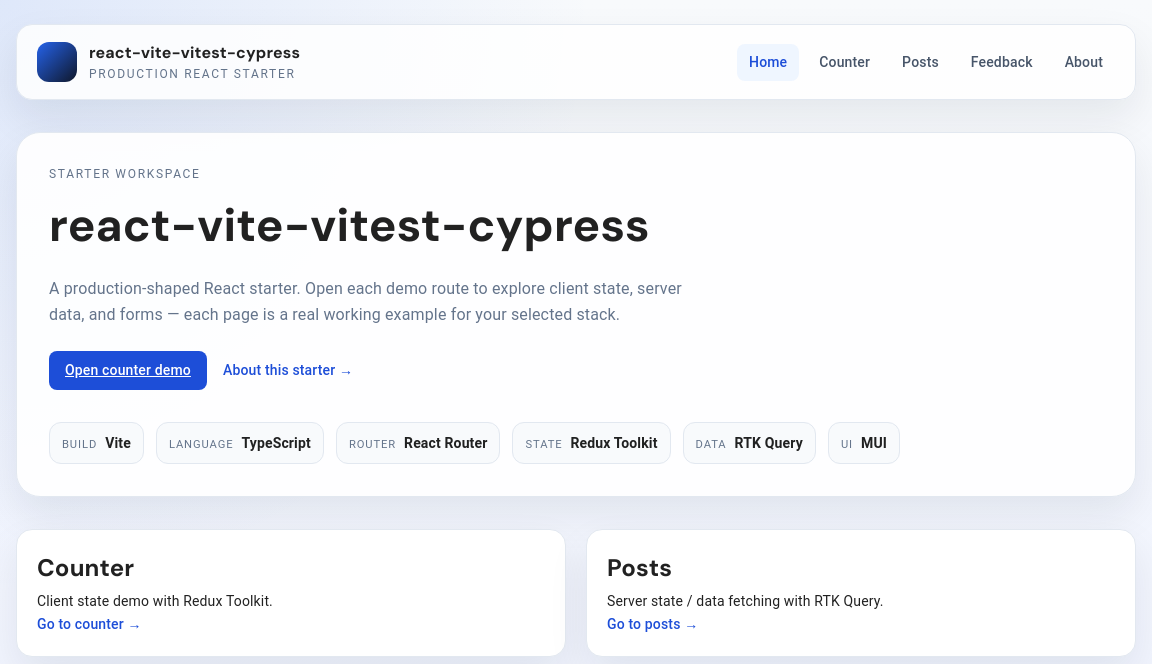
Test: Navigation › can visit each primary route
The image size is (1152, 664).
Click the link "Counter" at [845, 62], box [819,54,870,70]
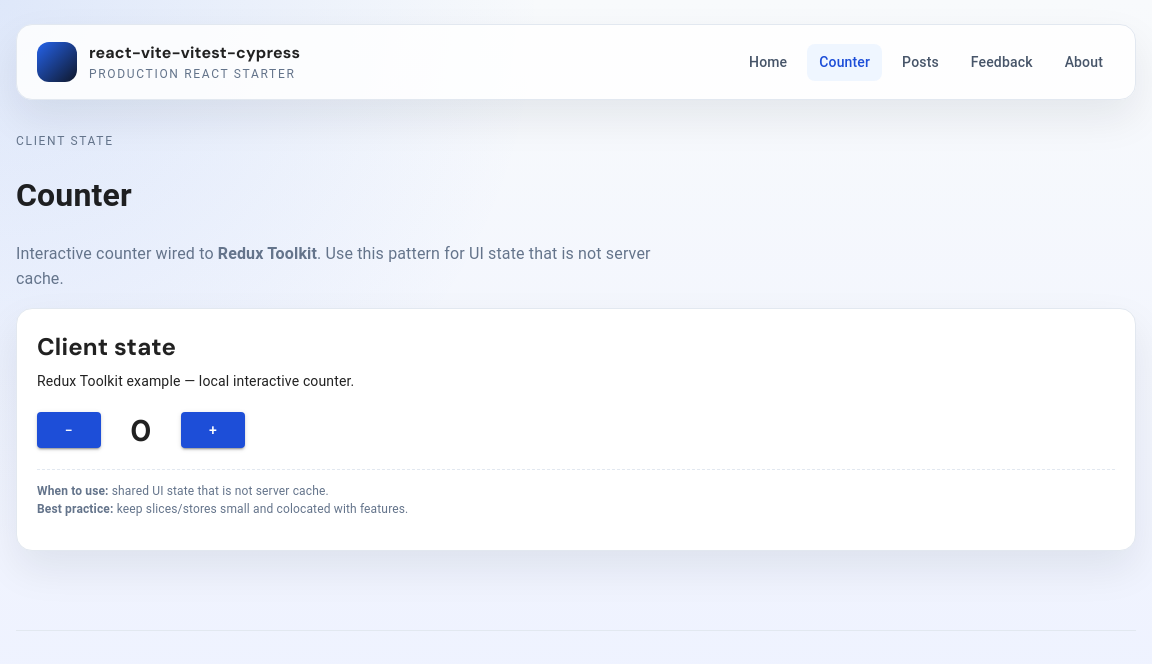
Now the heading "Counter" is shown, box [16,176,132,214]
Click the link "Posts" at [921, 62], box [902,54,939,70]
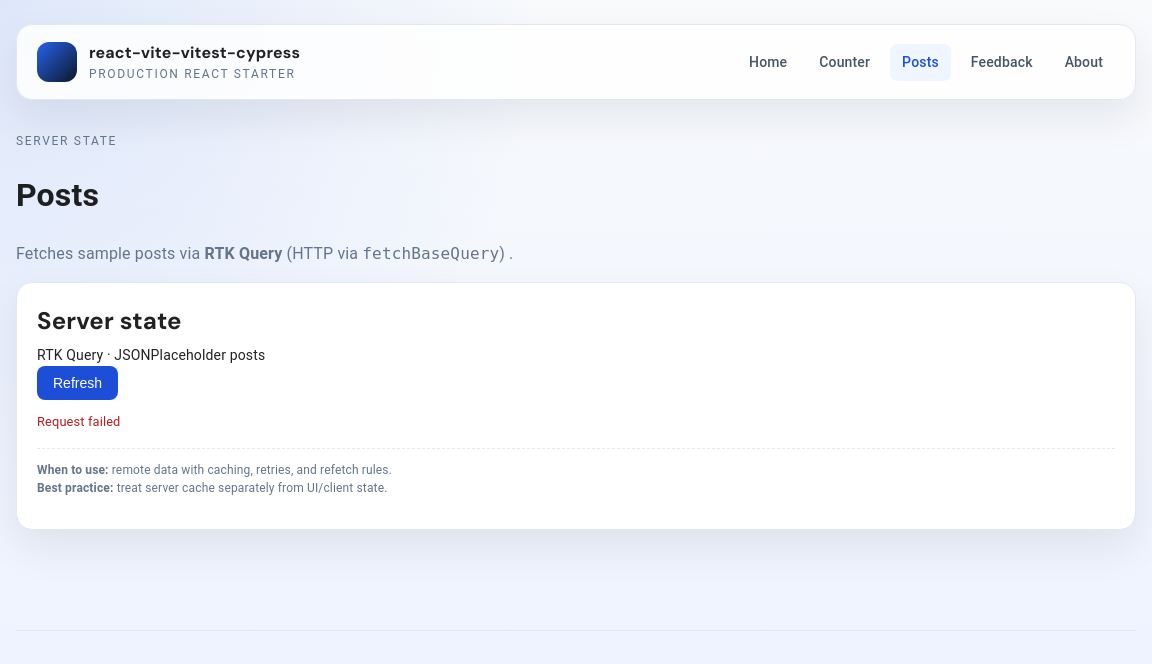
Now the heading "Posts" is shown, box [16,176,99,214]
Click the link "Feedback" at [1002, 62], box [971,54,1033,70]
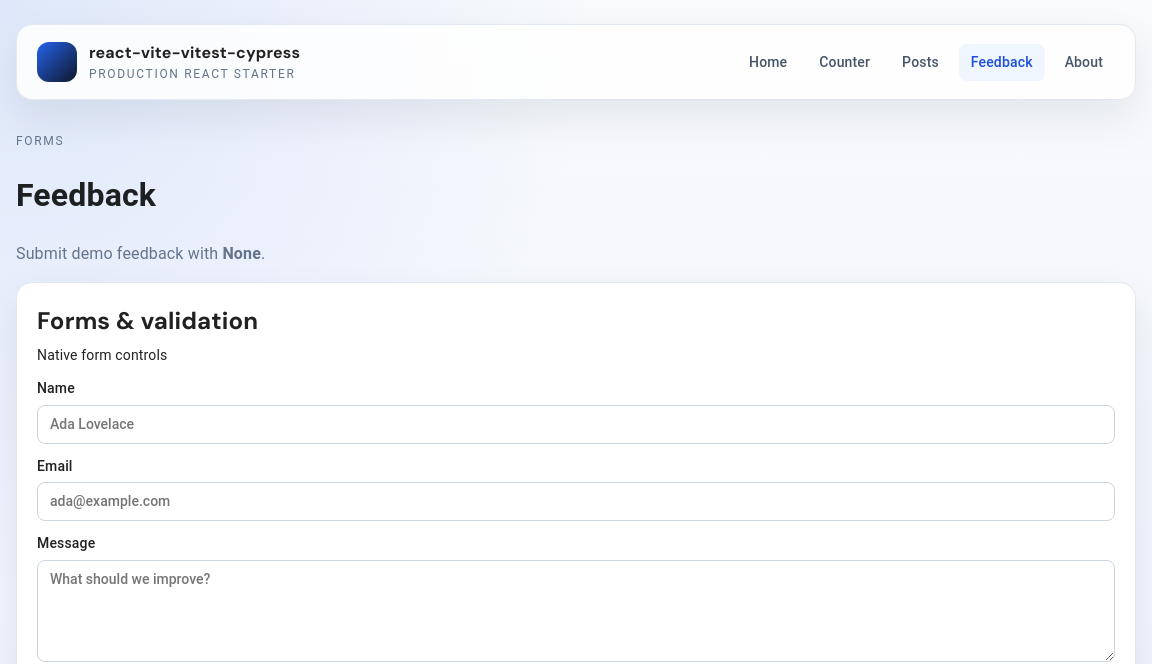
Now the heading "Feedback" is shown, box [16,176,156,214]
Click the link "About" at [1084, 62], box [1065,54,1103,70]
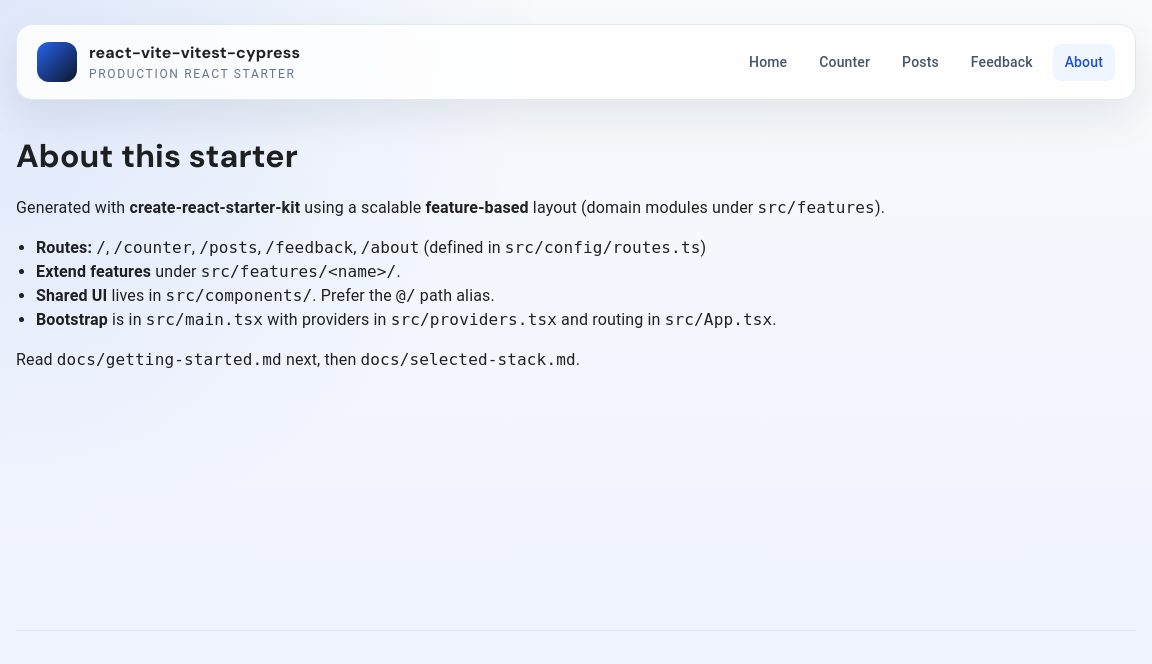
Now the heading "About this starter" is shown, box [16,135,298,177]
